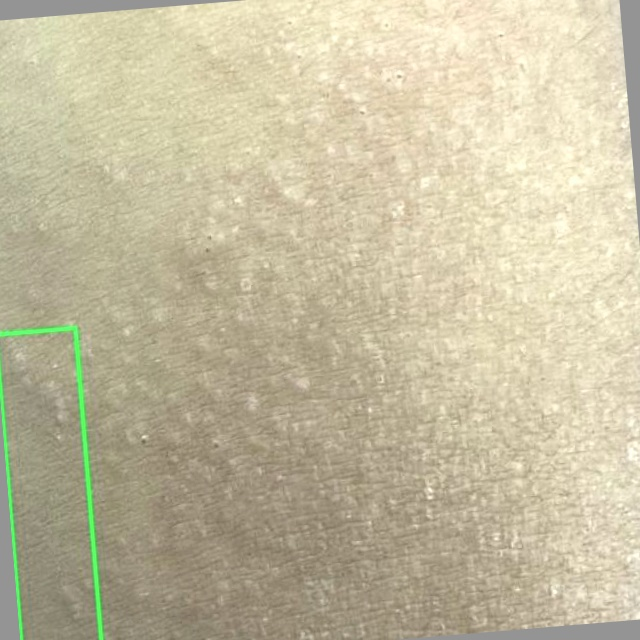Contact Dermatitis: (0, 328, 101, 639)
